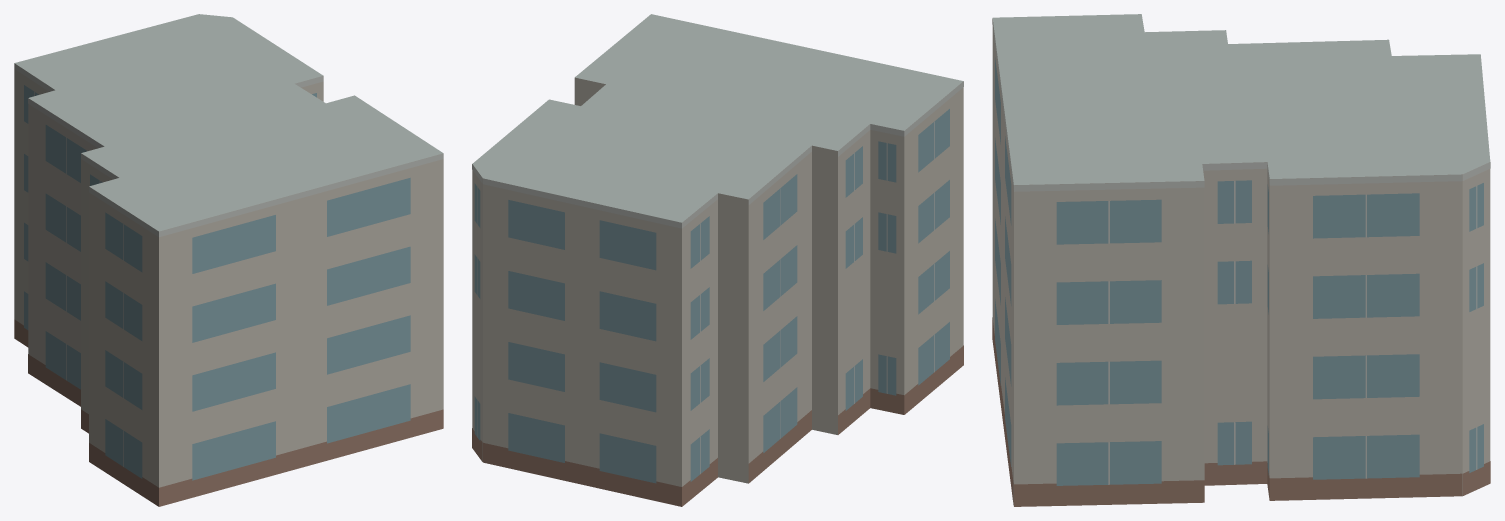
Rendered from survey-upis-32708236.glb.
3 renders of one model, left to right at view 1: azimuth 30°, elevation 25°; view 2: azimuth 150°, elevation 25°; view 3: azimuth 270°, elevation 25°, orthographic. The views are drawn at different scales.
Parts seen in each view (by area): view 1: survey-upis-32708236.tmp; view 2: survey-upis-32708236.tmp; view 3: survey-upis-32708236.tmp.
Boxes of the visible parts, x1=… form: survey-upis-32708236.tmp: x1=14, y1=14, x2=443, y2=506; survey-upis-32708236.tmp: x1=472, y1=14, x2=963, y2=506; survey-upis-32708236.tmp: x1=992, y1=14, x2=1490, y2=506.
Bounding box in the file's own units: 13.35 × 11.7 × 16.42.
